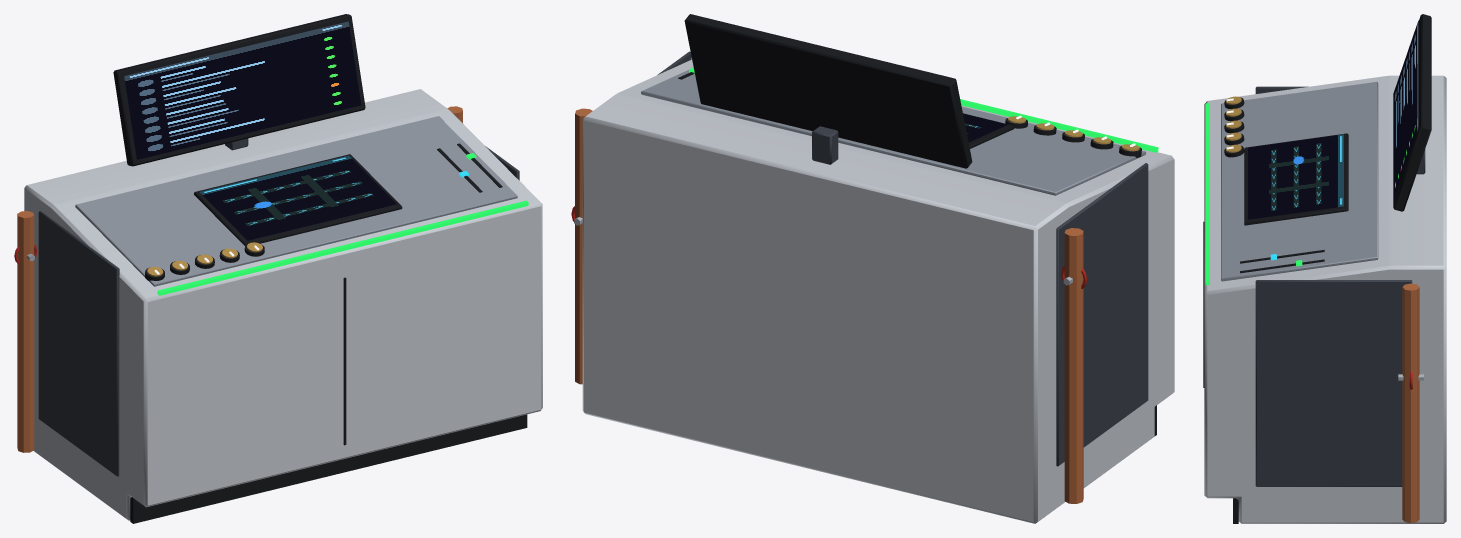
File: console_environmental.glb
3 views of the same model, side by side, from view 1: azimuth 30°, elevation 25°; view 2: azimuth 150°, elevation 25°; view 3: azimuth 270°, elevation 25° (orthographic). The views are drawn at different scales.
Parts seen in each view (by area): view 1: console_environmental; view 2: console_environmental; view 3: console_environmental.
Part boxes in pixels (box(x1,y1,x2,y2)): console_environmental: box(14, 14, 542, 523); console_environmental: box(571, 14, 1174, 523); console_environmental: box(1203, 14, 1446, 523).
Bounding box in the file's own units: 1.81 × 1.39 × 0.854.
13 materials, 2 textured.
